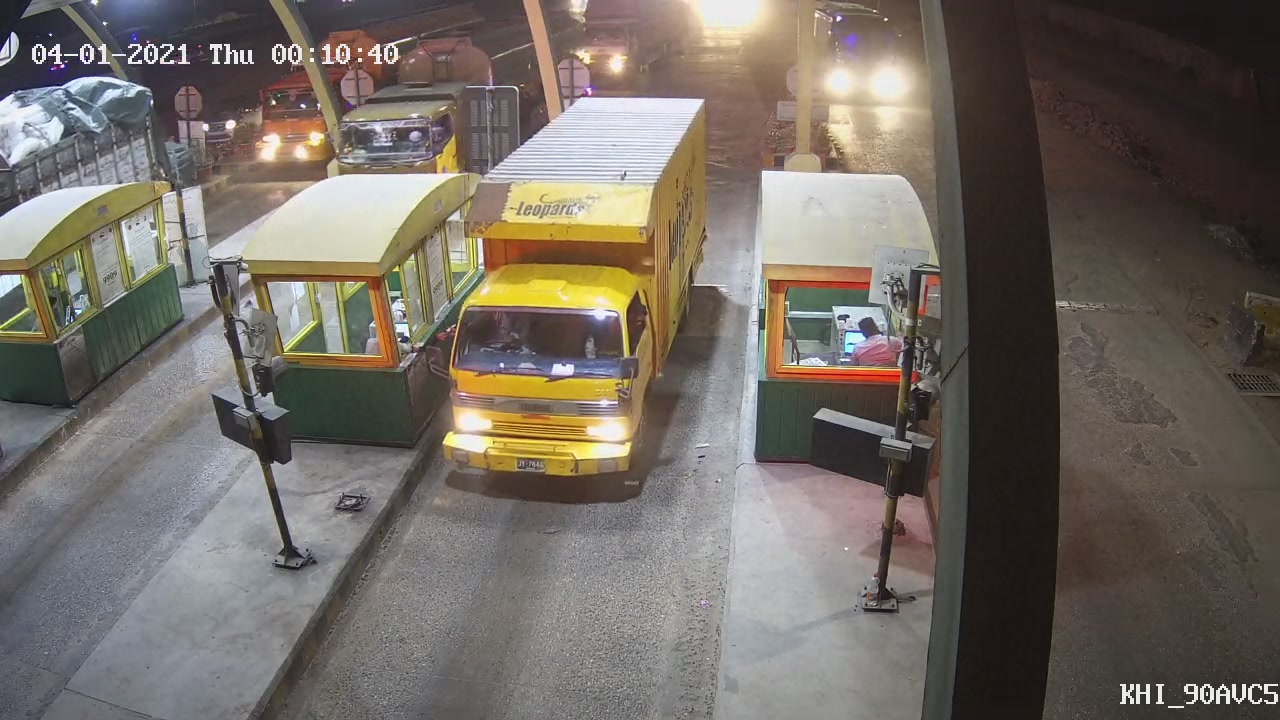F5: (417, 104, 712, 526)
